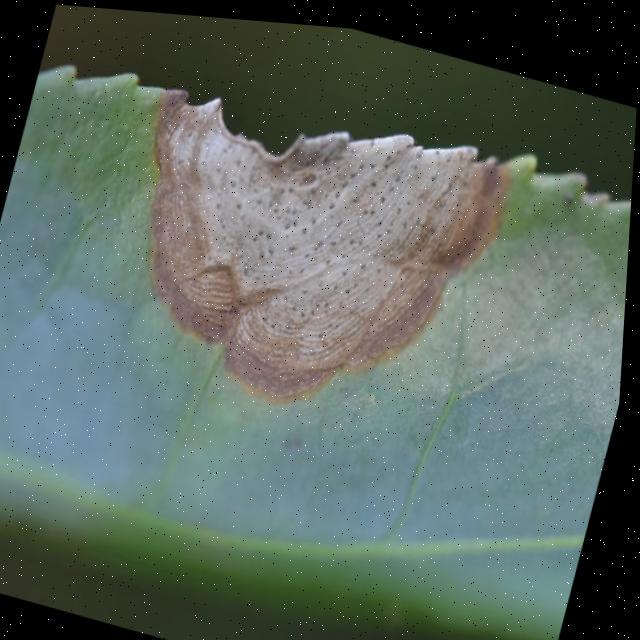Tea cloud leaf blight: (108, 44, 529, 425)
